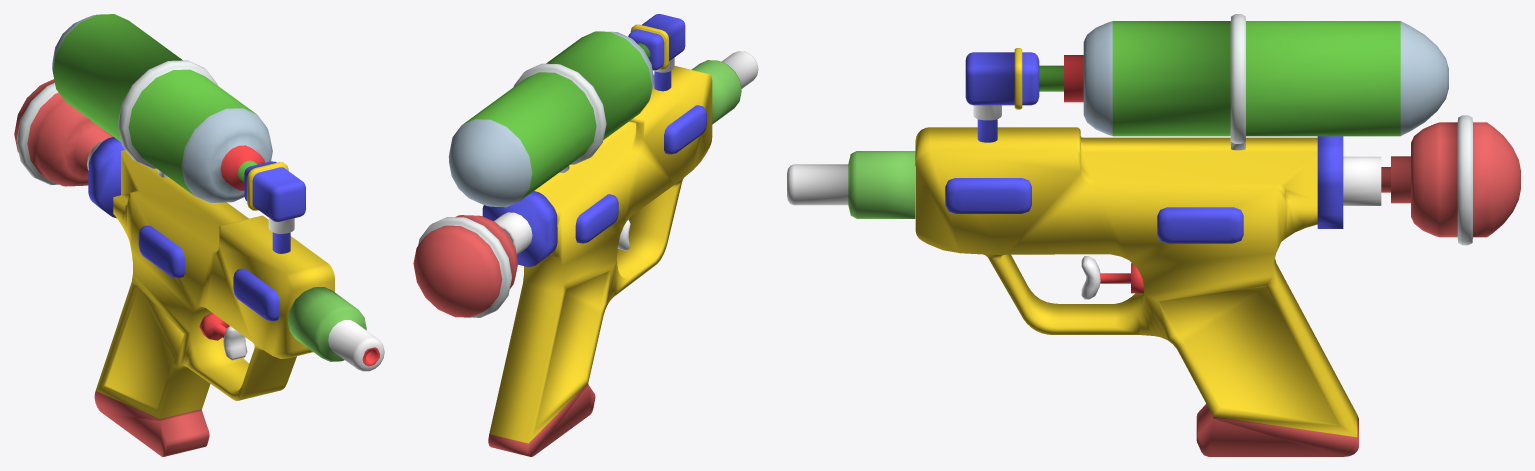
The model's file is Watergun6.fbx.
3 views of the same model, side by side, from view 1: azimuth 30°, elevation 25°; view 2: azimuth 150°, elevation 25°; view 3: azimuth 270°, elevation 25° (orthographic). The views are drawn at different scales.
Parts seen in each view (by area): view 1: Watergun6; view 2: Watergun6; view 3: Watergun6.
Part boxes in pixels (x1,y1,x2,y2): Watergun6: [14, 14, 384, 456]; Watergun6: [413, 14, 758, 456]; Watergun6: [787, 14, 1520, 456].
Size of the model in its own units: 0.0743 by 0.2679 by 0.4188.
